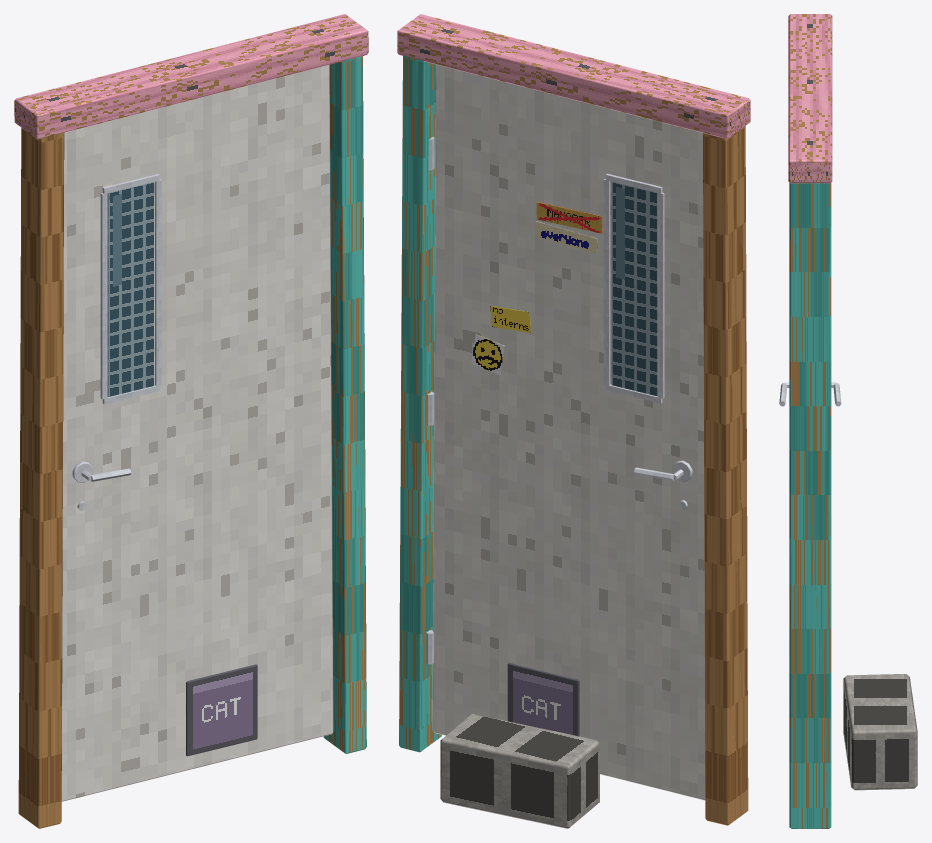
File: s_door_bottom.glb
The picture shows the model from 3 angles, left to right: view 1: azimuth 30°, elevation 25°; view 2: azimuth 150°, elevation 25°; view 3: azimuth 270°, elevation 25°; orthographic projection. The views are drawn at different scales.
Parts seen in each view (by area): view 1: s_door_bottom_mesh; view 2: s_door_bottom_mesh; view 3: s_door_bottom_mesh.
Part boxes in pixels (<box>): s_door_bottom_mesh: <box>14,14,368,828</box>; s_door_bottom_mesh: <box>397,14,750,828</box>; s_door_bottom_mesh: <box>779,14,917,828</box>.
Size of the model in its own units: 1.02 by 2.11 by 0.3944.
4 materials, 4 textured.
